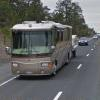Bus: (7, 17, 75, 80)
